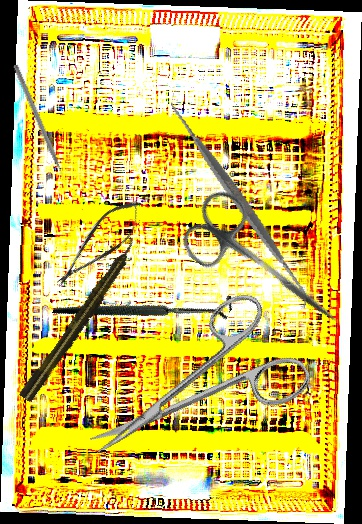Handpiece: (17, 235, 143, 404)
Hook Surgical: (52, 225, 237, 387), (11, 63, 70, 188)
Iris Scissors: (63, 282, 316, 495), (172, 182, 362, 350)
Micro Scissor: (46, 190, 153, 297)
Spatula Surgical: (128, 92, 350, 309)
